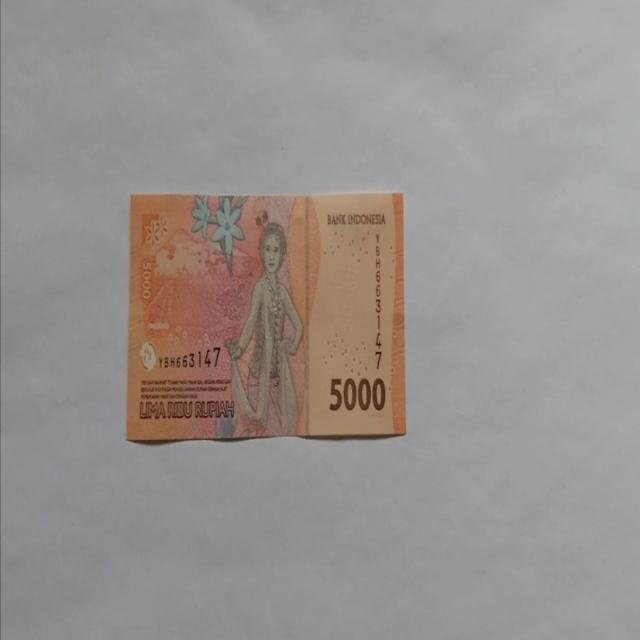lima ribu rupiah: (126, 189, 407, 443), (222, 221, 304, 438)
